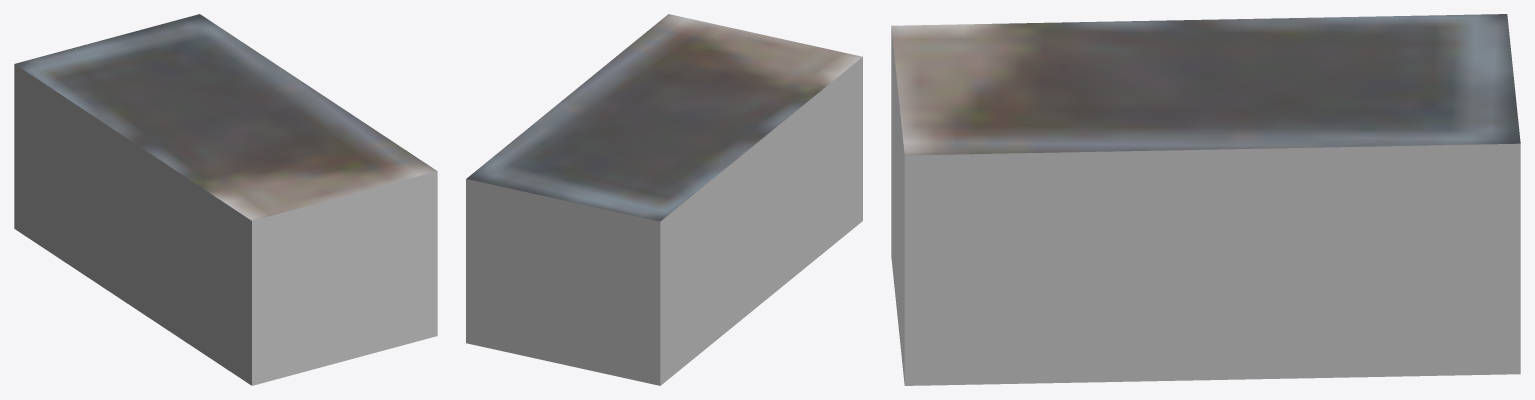
Rendered from DEBW_0010007Txe2.gltf.
3 renders of one model, left to right at view 1: azimuth 30°, elevation 25°; view 2: azimuth 150°, elevation 25°; view 3: azimuth 270°, elevation 25°, orthographic. The views are drawn at different scales.
Parts seen in each view (by area): view 1: Z_UP; view 2: Z_UP; view 3: Z_UP.
Part boxes in pixels (x1,y1,x2,y2): Z_UP: (14,14,437,385); Z_UP: (466,14,862,385); Z_UP: (891,14,1520,385).
Bounding box in the file's own units: 3.25 × 2.47 × 6.11.
Materials: 2 (1 with a texture image).
